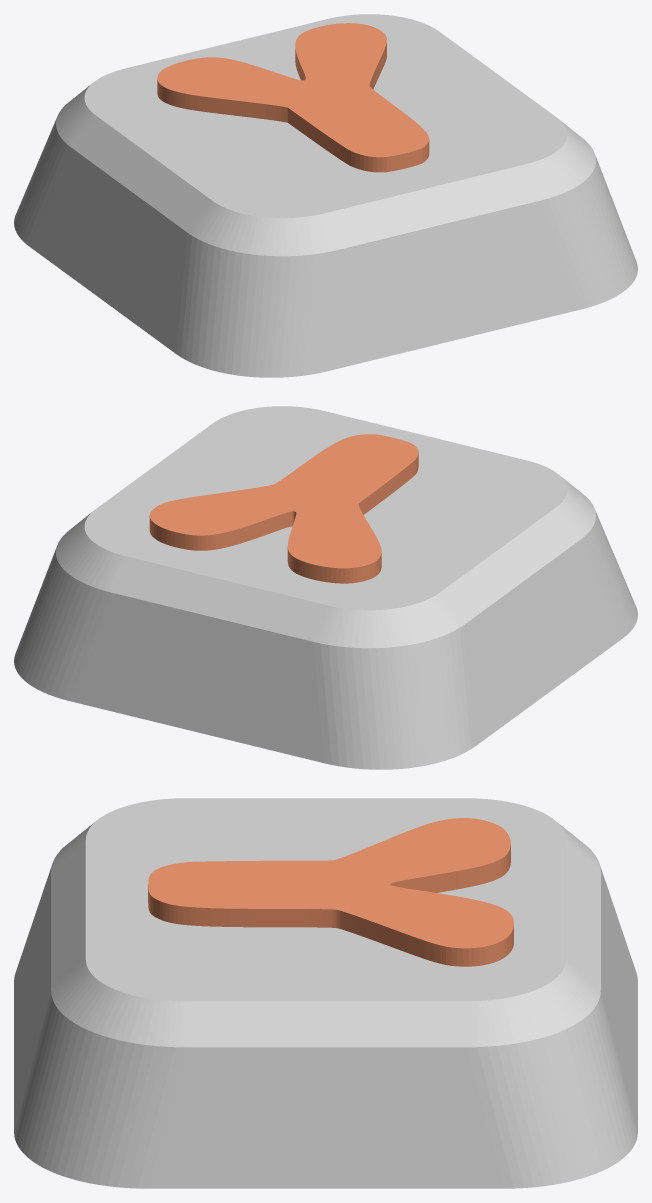
The model's file is cap-Y.glb.
3 renders of one model, top to bottom at view 1: azimuth 30°, elevation 25°; view 2: azimuth 150°, elevation 25°; view 3: azimuth 270°, elevation 25°, orthographic. The views are drawn at different scales.
Visible parts, largest first — view 1: cap_0, glyph_1; view 2: cap_0, glyph_1; view 3: cap_0, glyph_1.
Part boxes in pixels (<box>): cap_0: <box>14,14,637,377</box>; glyph_1: <box>157,23,429,172</box>; cap_0: <box>14,406,637,769</box>; glyph_1: <box>149,434,418,583</box>; cap_0: <box>14,798,637,1188</box>; glyph_1: <box>148,818,513,966</box>.
Bounding box in the file's own units: 18 × 5.59 × 18.
